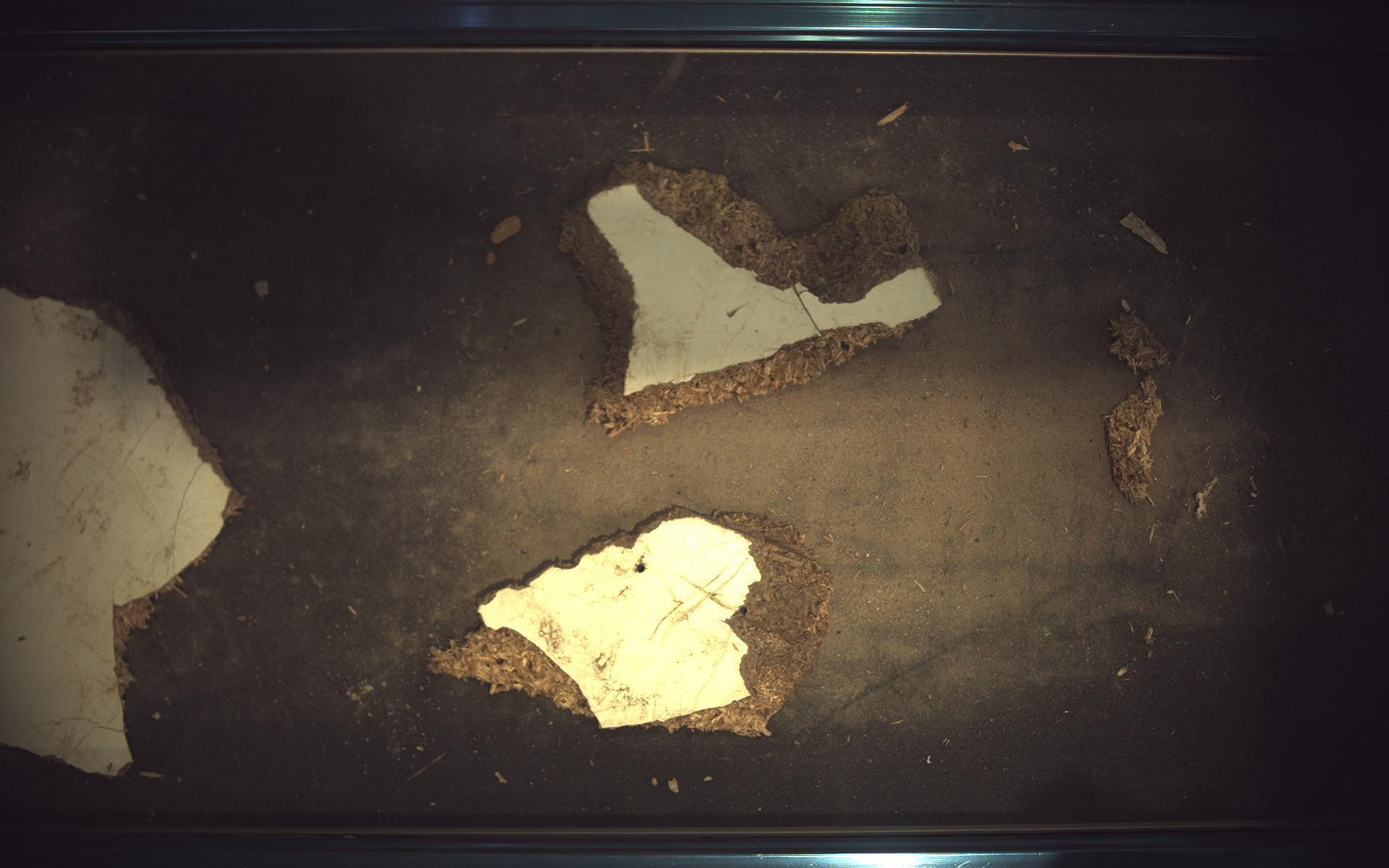wood: (1, 288, 239, 777), (561, 161, 942, 434), (430, 509, 833, 738), (1108, 372, 1165, 503), (1113, 300, 1171, 373)
